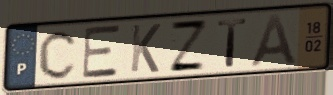A: (248, 12, 301, 69)
C: (37, 28, 81, 81)
E: (81, 23, 122, 81)
K: (128, 22, 163, 75)
T: (215, 16, 250, 69)
Z: (167, 19, 211, 74)
